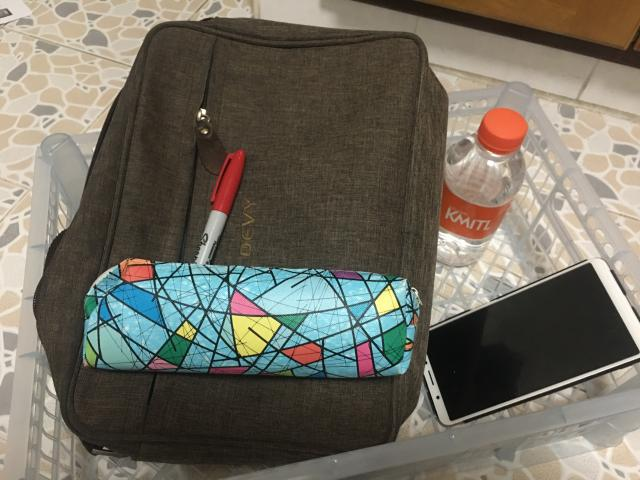Mobile phone: (425, 258, 640, 425)
Pen: (194, 150, 245, 264)
bottle: (438, 108, 528, 266)
